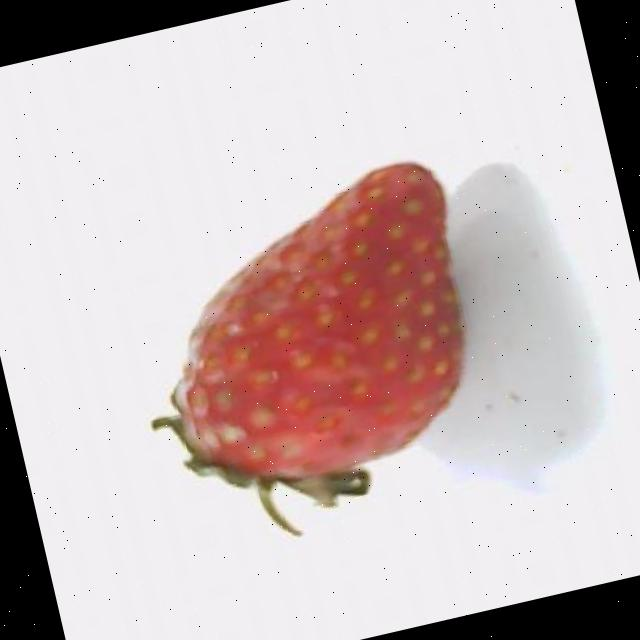strawberry: (151, 163, 462, 533)
